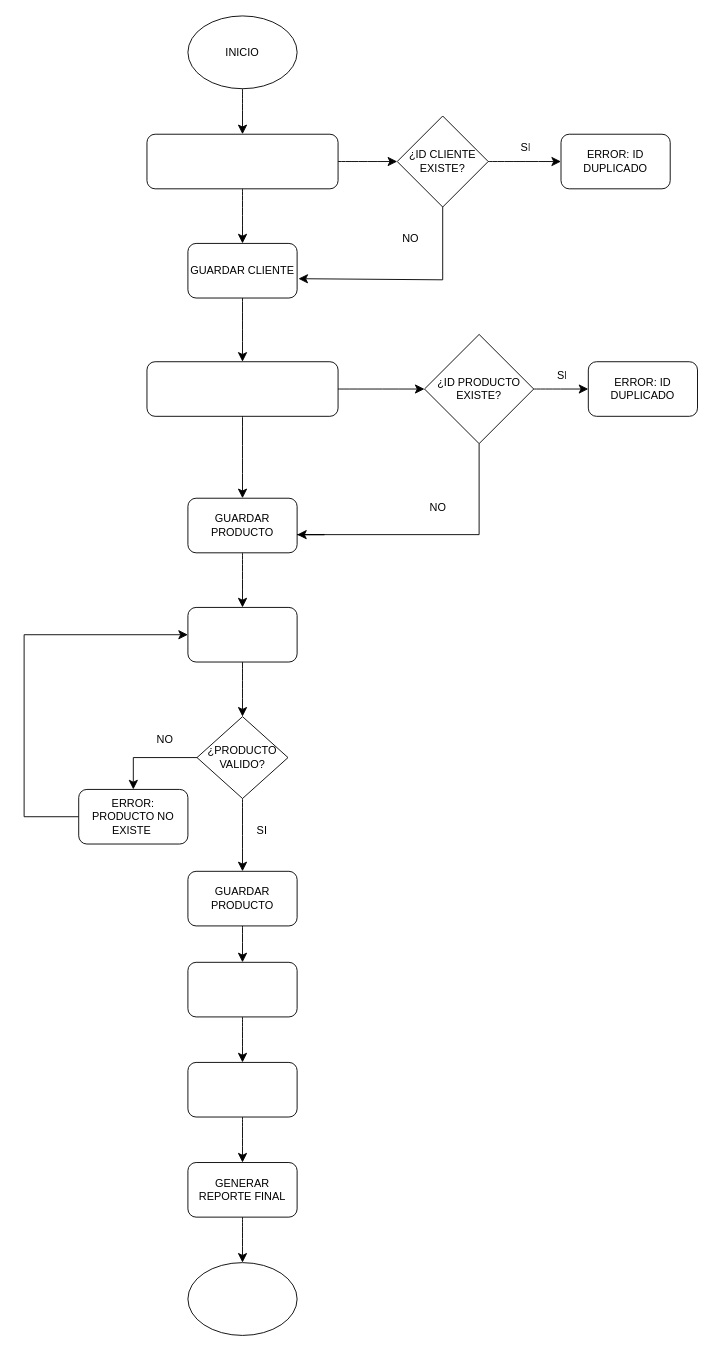
Image size: 713x1351. Some labels were removed from this diagram. Each missing label, with the box of its shape:
CALCULAR INGRESOS: (187, 1062, 297, 1117)
CONSULTAR PEDIDOS: (187, 961, 297, 1017)
CREAR PEDIDO: (187, 607, 297, 662)
FIN: (187, 1262, 297, 1335)
REGISTRAR CLIENTE: (146, 133, 338, 189)
REGISTRAR PRODUCTO: (146, 361, 338, 416)
